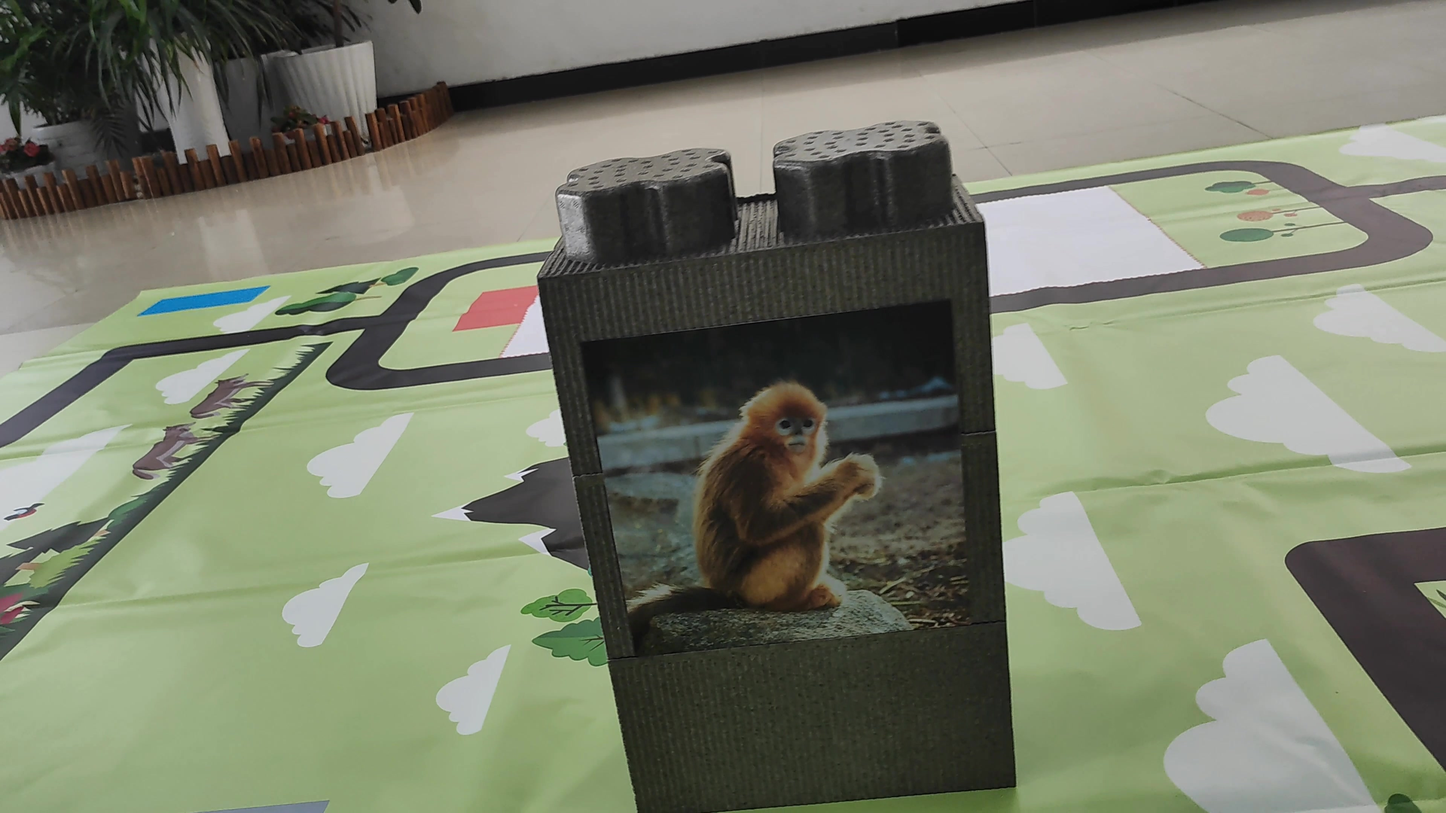monkey: (606, 375, 927, 641)
